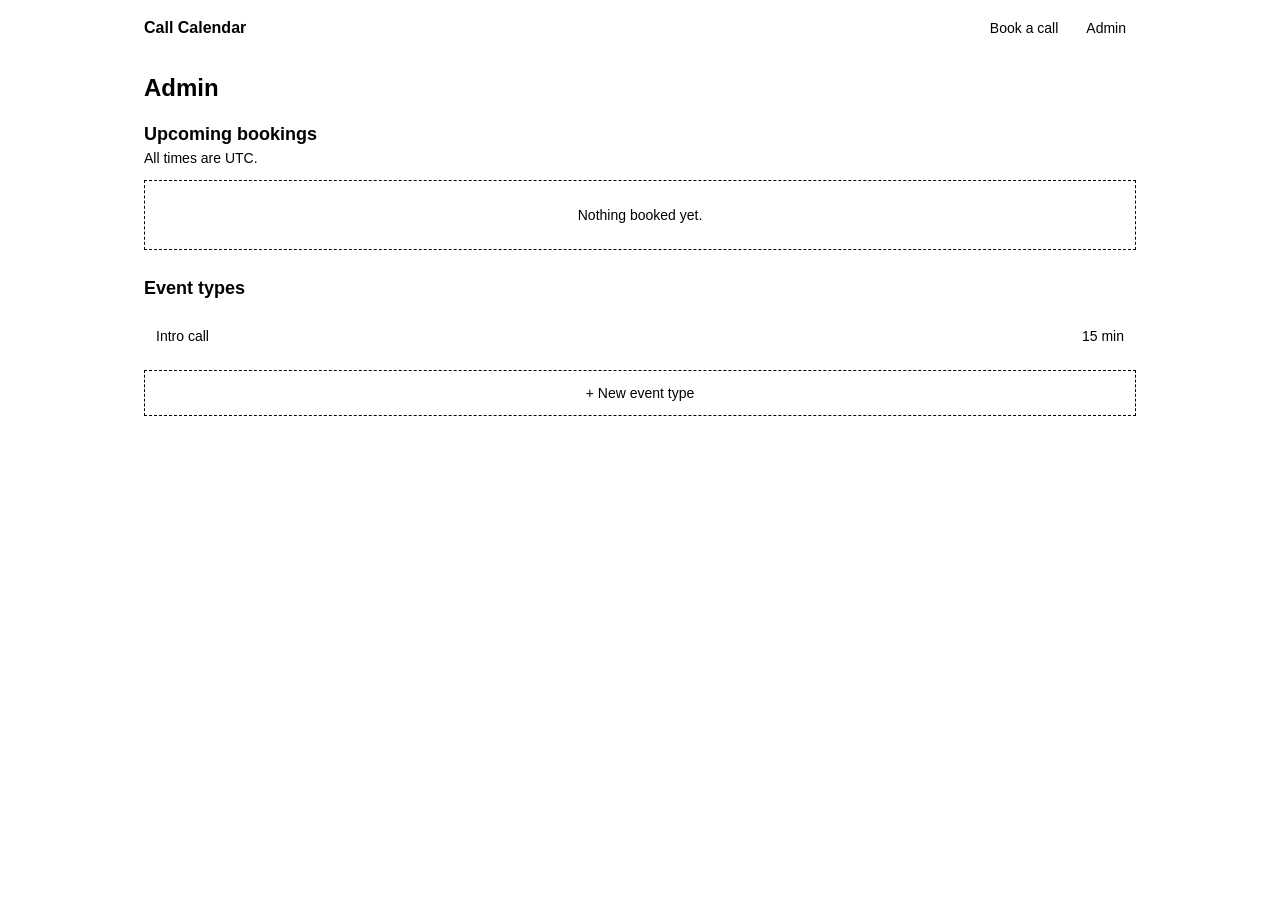
admin: deleting an event type › asks for confirmation, and Cancel closes the dialog without deleting
Click the button "Intro call 15 min" at (182, 336), box top-left (144, 314), bottom-right (1136, 358)
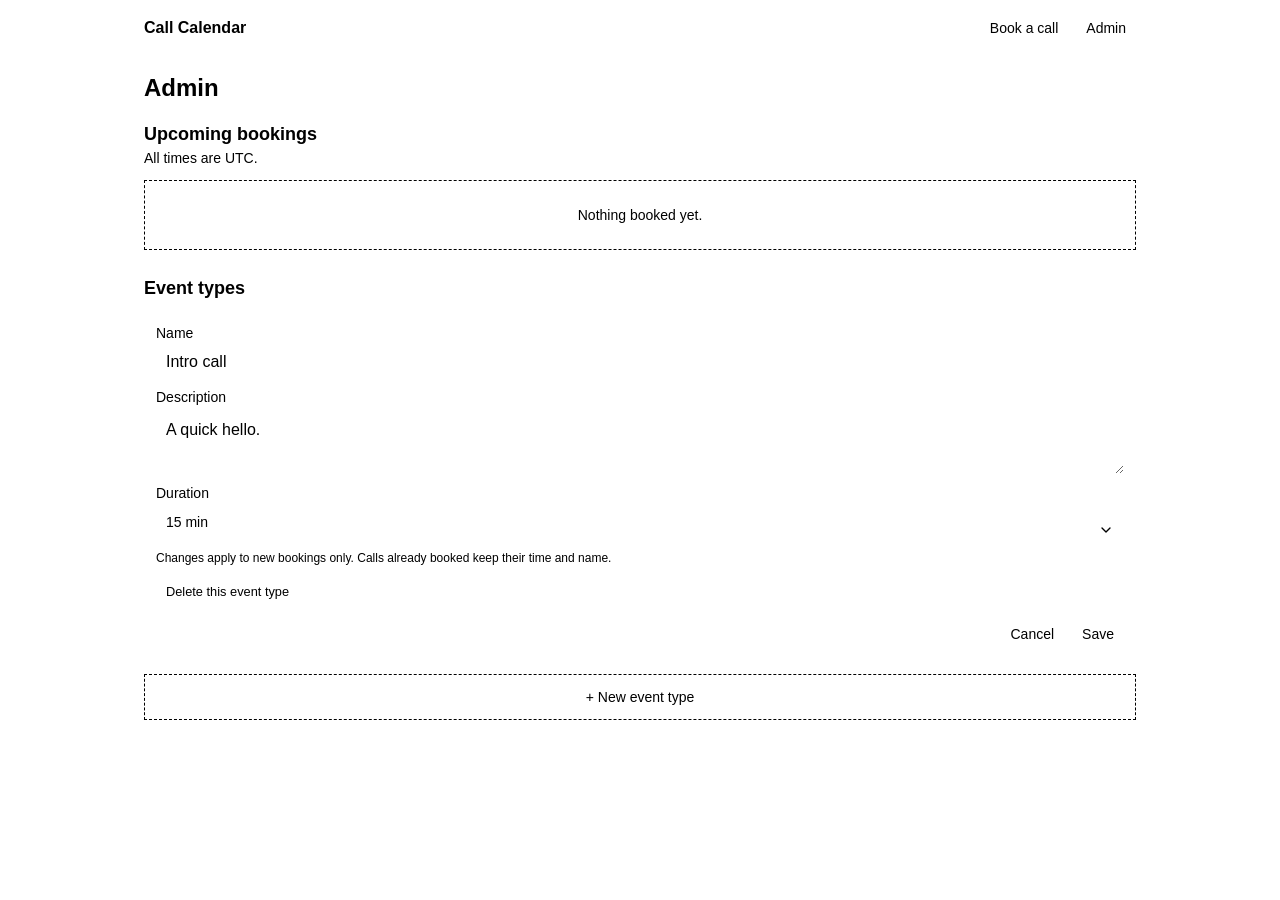
Click the button "Delete this event type" at (228, 592), box top-left (156, 578), bottom-right (299, 606)
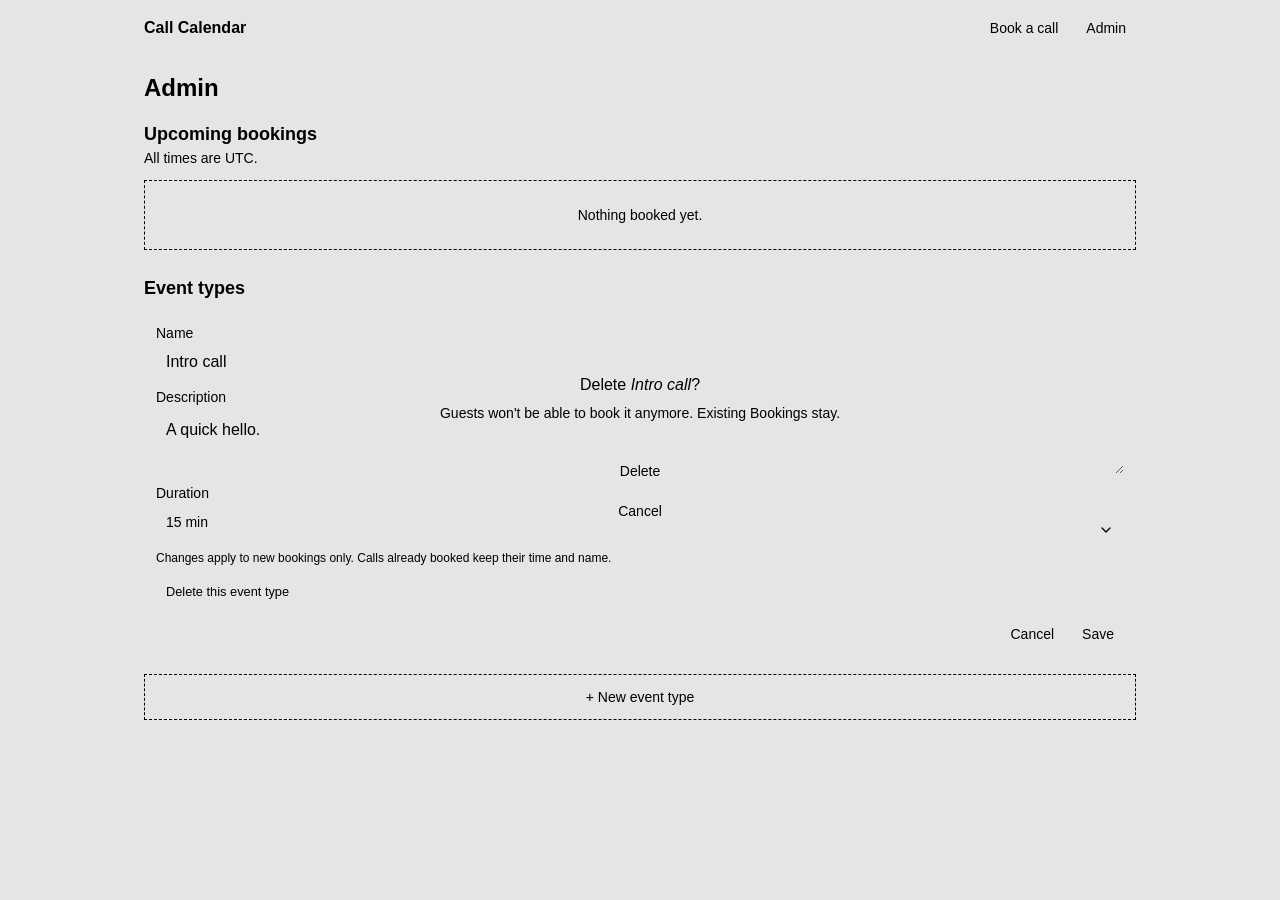
Click the button "Cancel" at (640, 511), box top-left (16, 495), bottom-right (1264, 527)
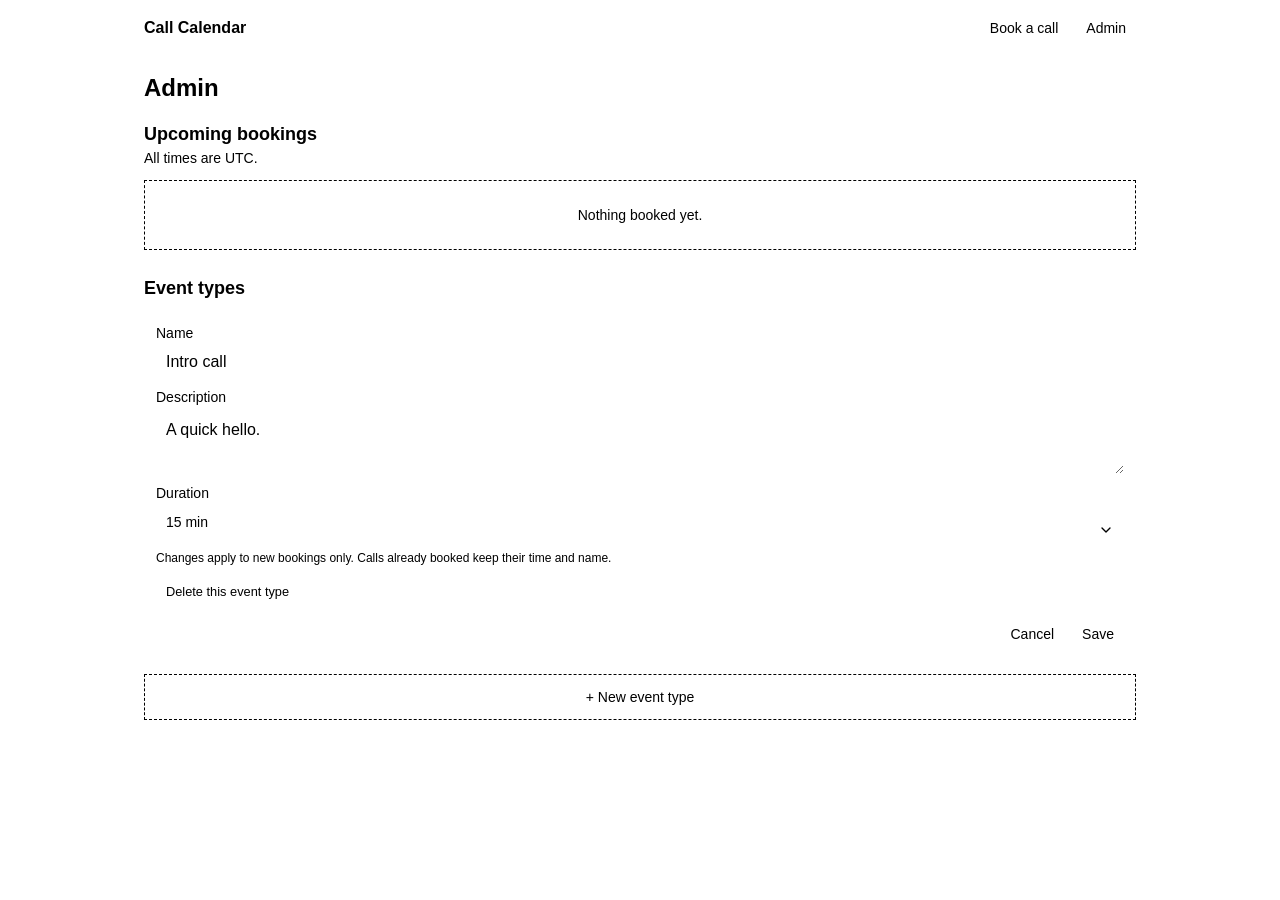
expect the form named "Edit Intro call" is shown: met, box top-left (144, 314), bottom-right (1136, 662)
expect the dialog is gone: met
